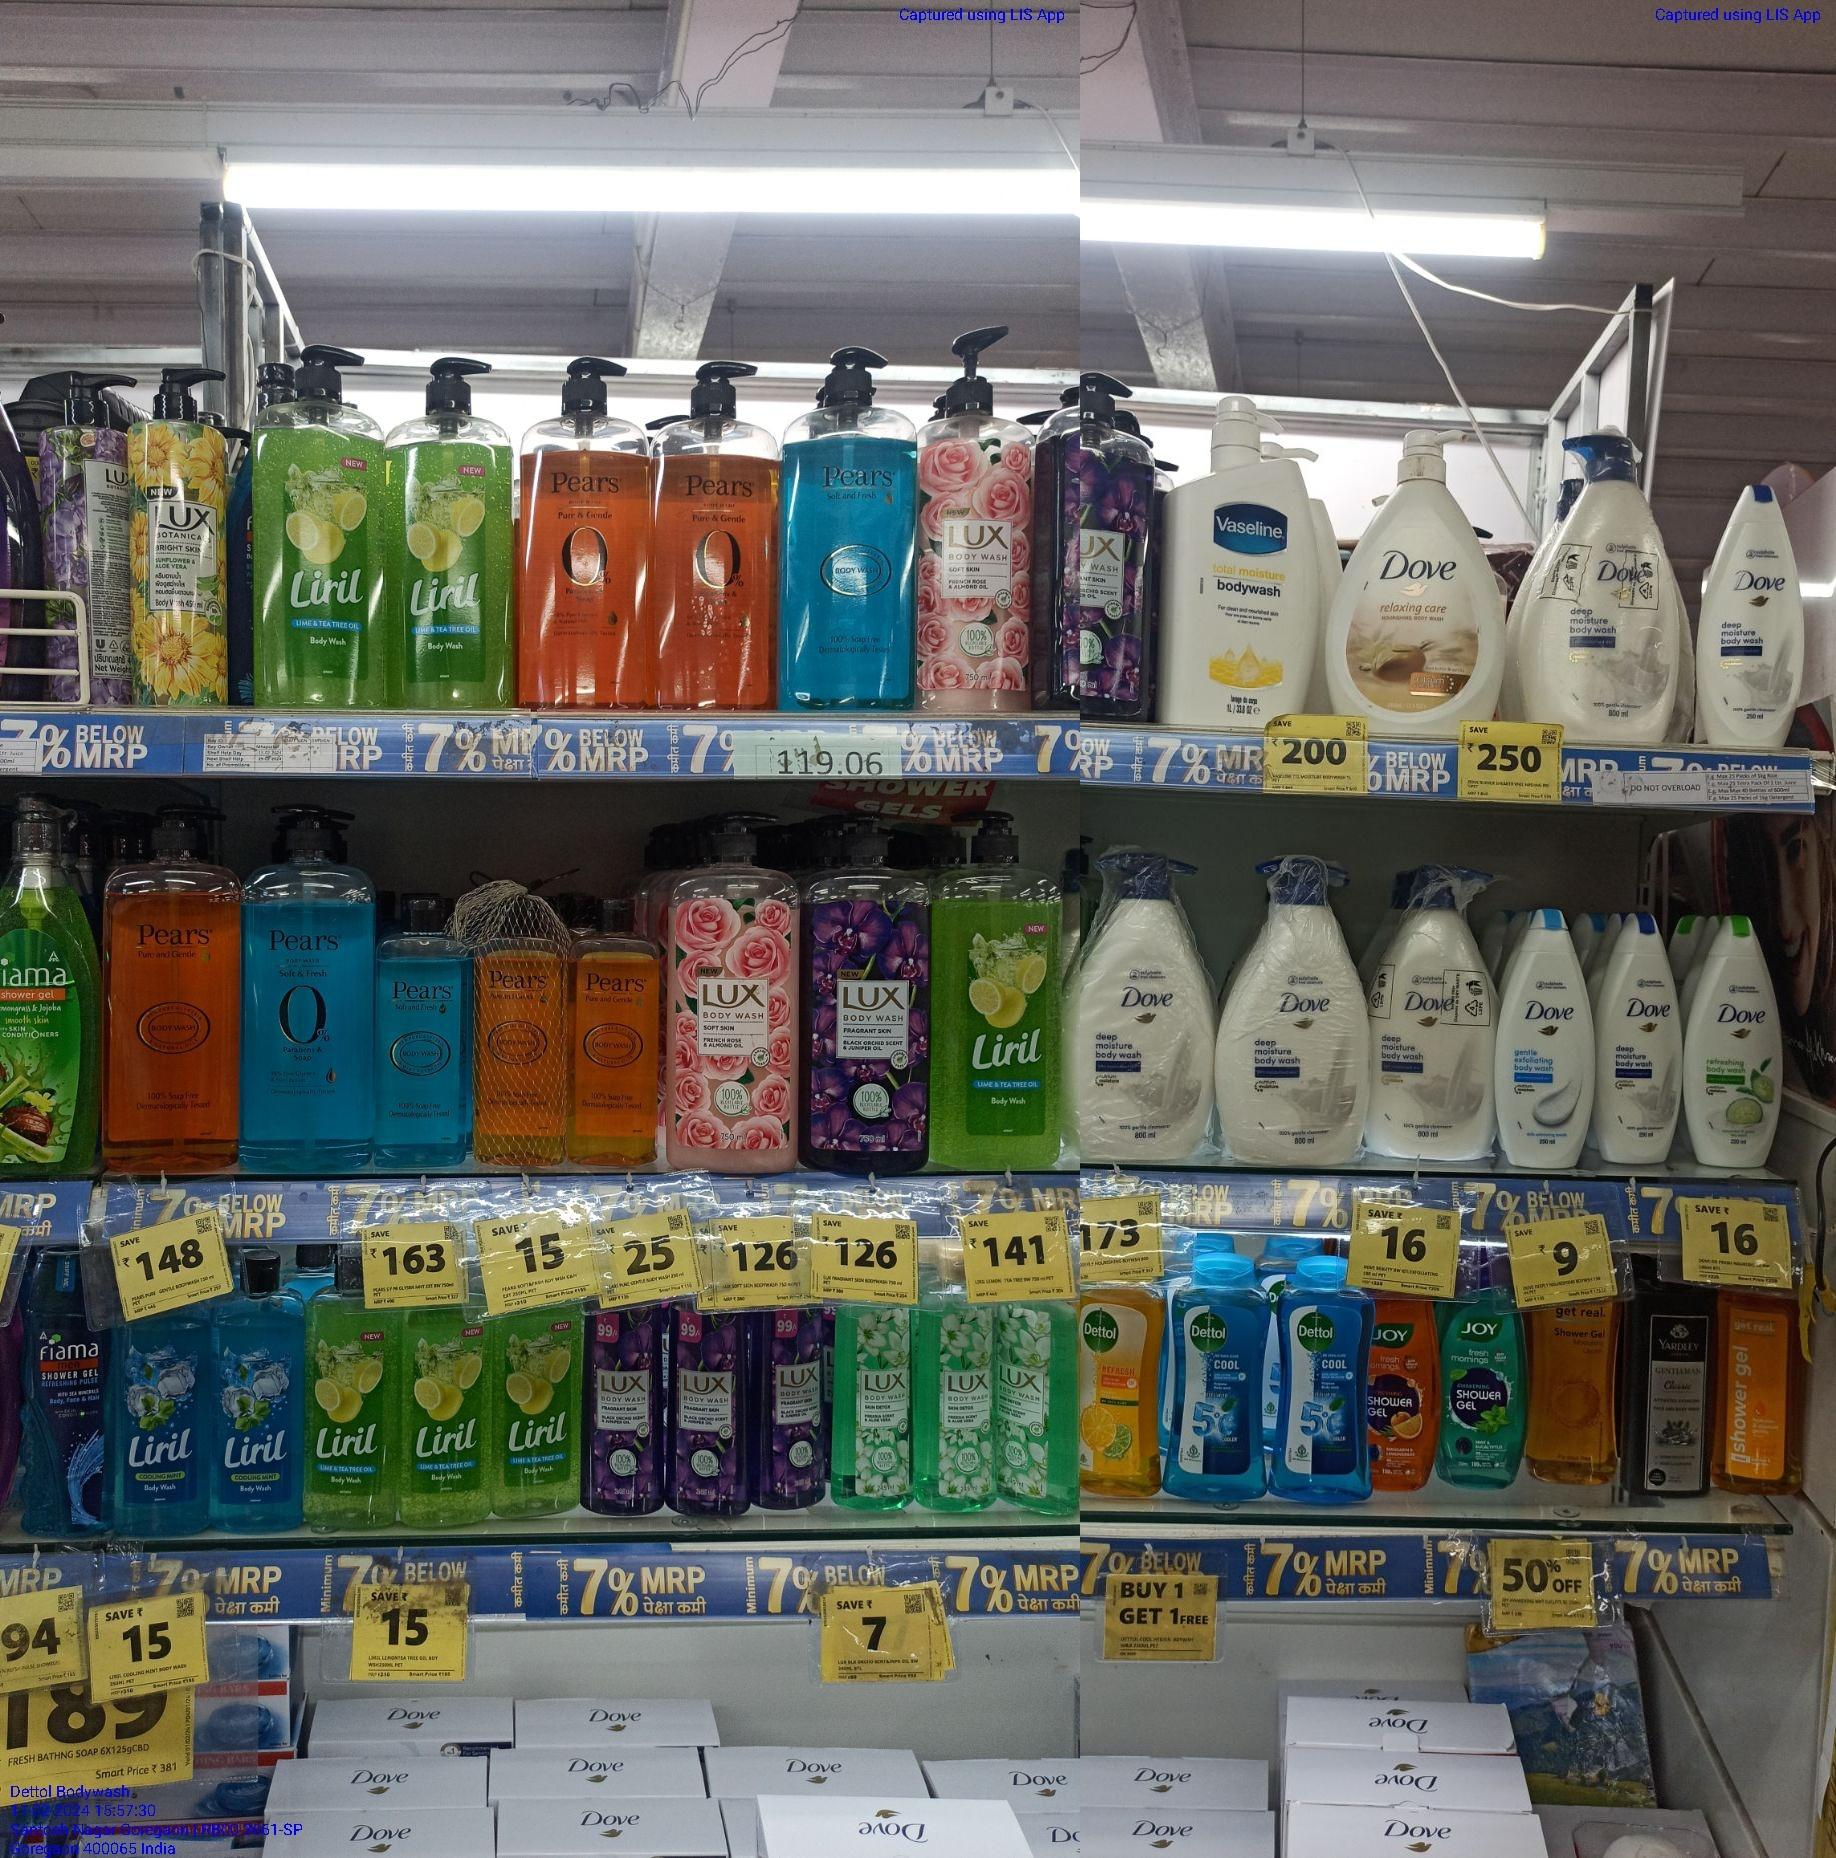Dettol_Bodywash_Cool: (1172, 1251, 1269, 1508), (1269, 1253, 1365, 1510)
Dettol_Bodywash_Refresh: (1078, 1278, 1162, 1496)
Dove_Deep_Moisture_Body_Wash_250ML: (1698, 481, 1809, 748), (1609, 916, 1681, 1167)
Dove_Gentle_Exfoliating_Body_Wash_250ML: (1493, 908, 1594, 1170)
Dove_Refreshing_Body_Wash_250ML: (1683, 911, 1782, 1167)
Get_Real_Shower_Gel_Moisturising_Glycerin_300ML: (1532, 1295, 1621, 1493)
Joy_Shower_Gel_Mandarin_and_Lemongrass_250ML: (1372, 1286, 1438, 1490)
Joy_Shower_Gel_Mint_and_Eucalyptus_250ML: (1448, 1280, 1518, 1473)
Liril_Cooling_Mint_Body_Wash_250ML: (215, 1256, 301, 1527), (114, 1315, 208, 1537)
Liril_Lime_and_Tea_Tree_Oil_Body_Wash_250ML: (309, 1259, 397, 1530), (402, 1305, 489, 1527), (498, 1303, 575, 1528)
Lux_Black_Orchid_Scent_and_Juniper_Oil_Body_Wash_245ML: (678, 1298, 753, 1522), (587, 1306, 662, 1522), (758, 1303, 824, 1515)
Lux_Body_Wash_Skin_Detox_Freesia_Scent_and_Alove_Vera_245ML: (837, 1306, 915, 1520), (1000, 1301, 1076, 1518), (925, 1285, 994, 1517)
Pears_Pure_Glycerin_and_Mint_Extracts_Body_Wash_250ML: (377, 891, 471, 1170)
